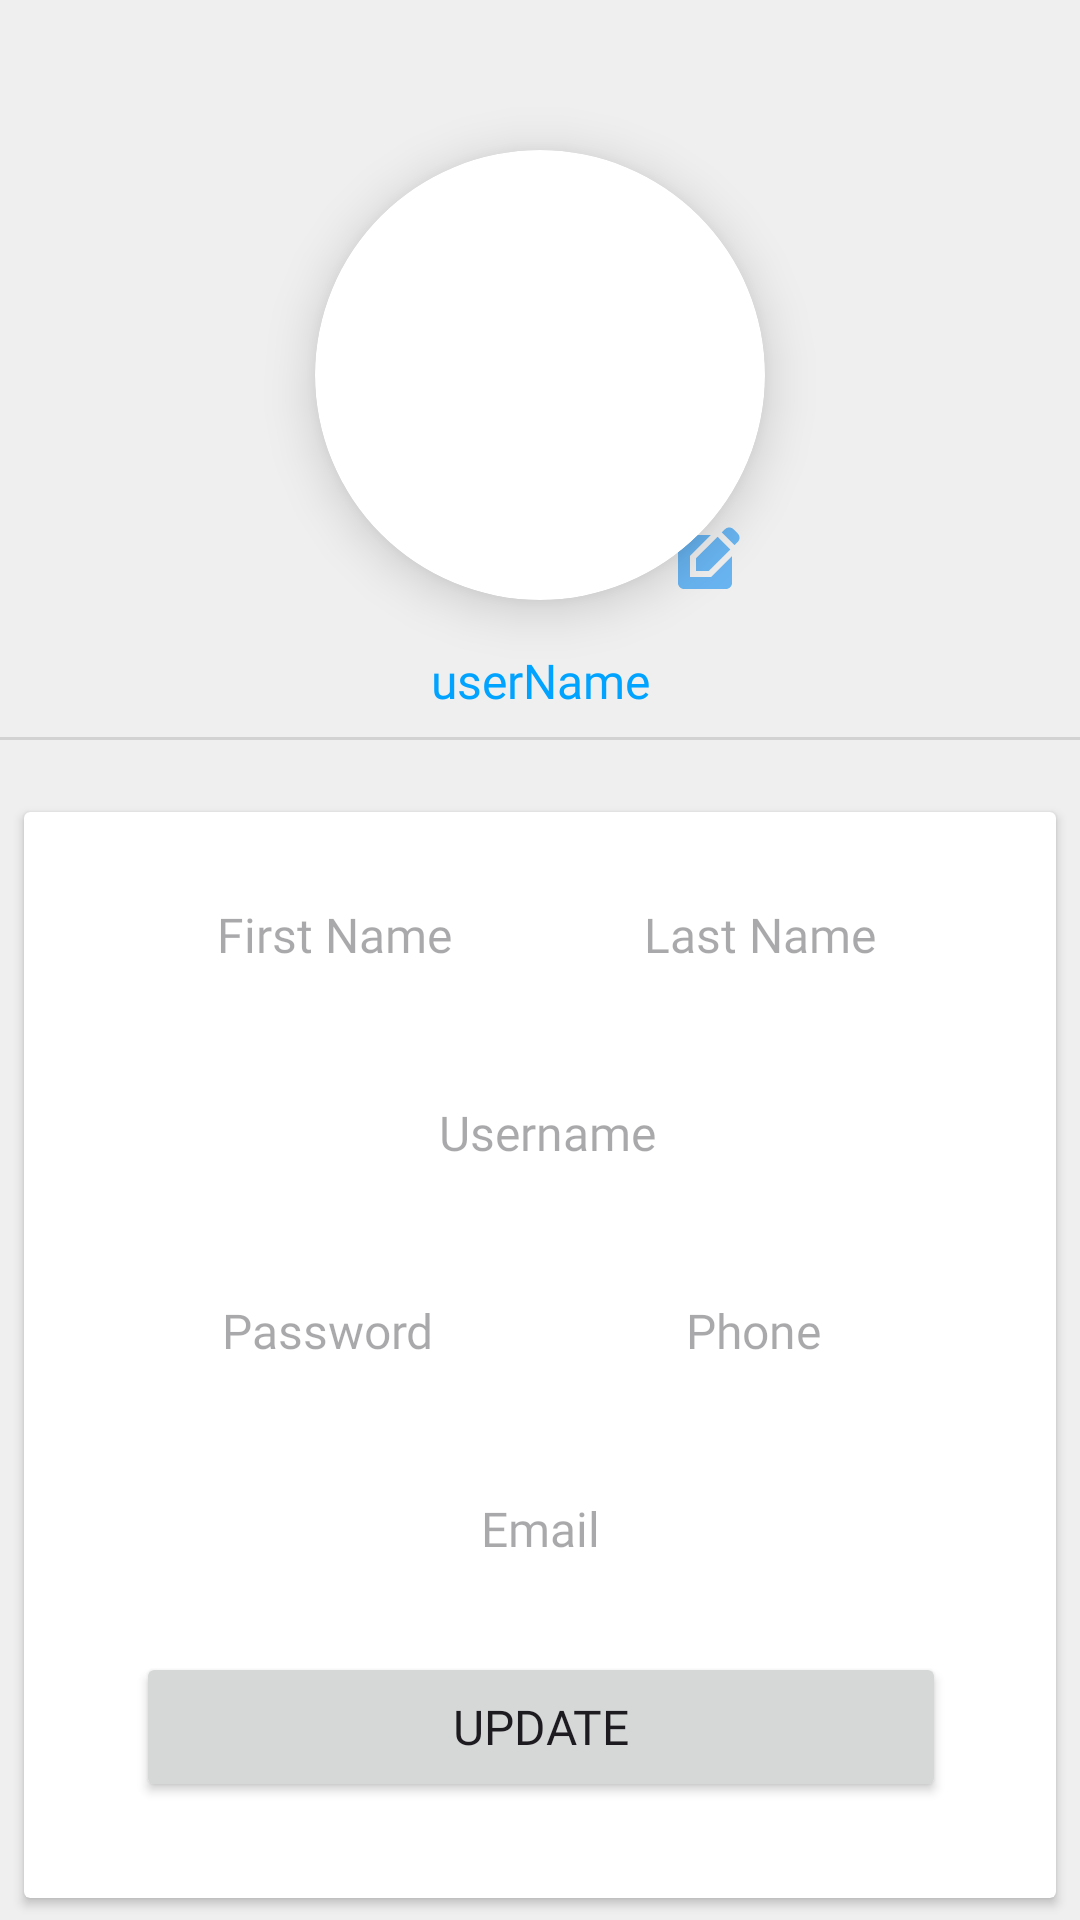

Named icons in this screenshot (1080×1920) and their centers, (x=x, y=y):
edit square: (x=704, y=558)
